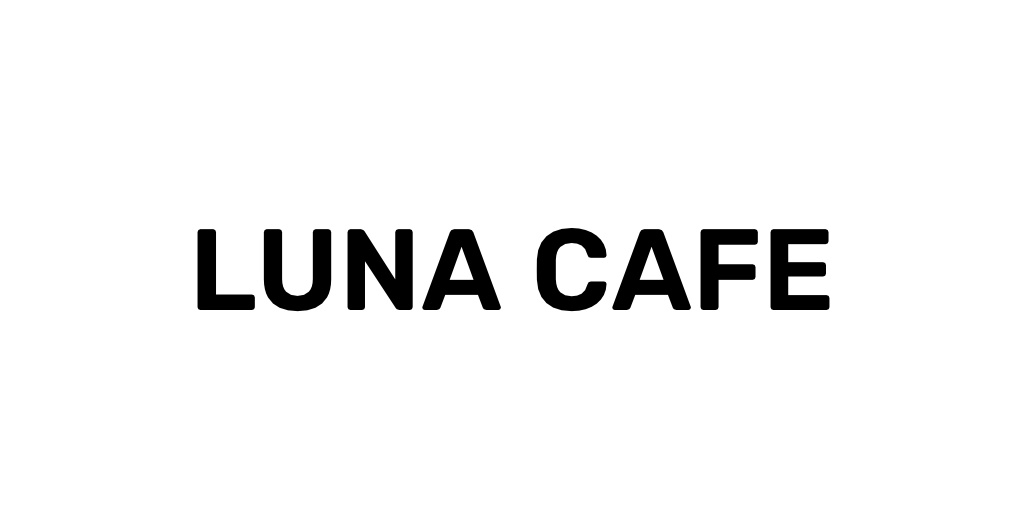sign: (189, 202, 835, 310)
